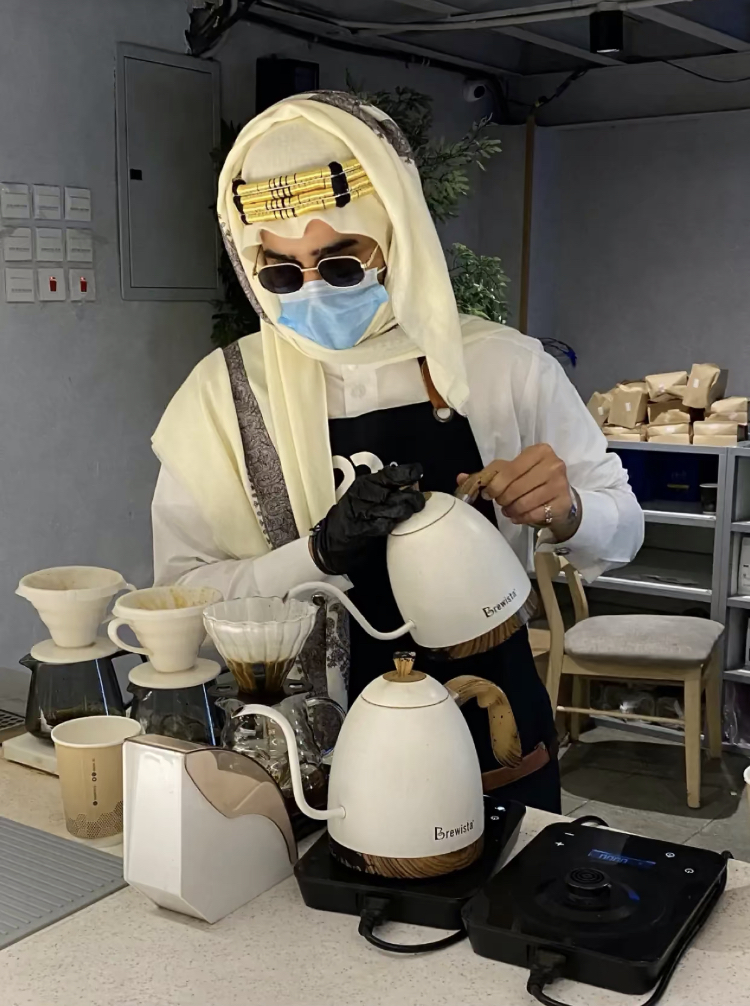Saudi_Founding_Day: (143, 78, 654, 825)
